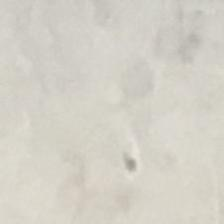Non_Crack: (30, 22, 203, 222)
